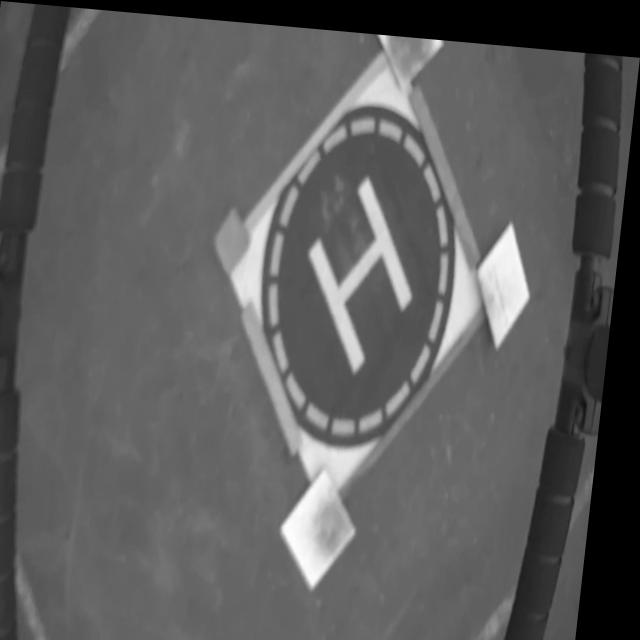Helipad: (312, 165, 418, 365)
